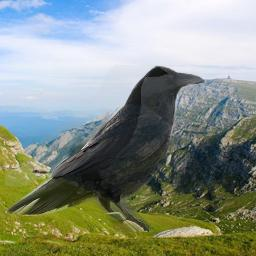Crow: (5, 65, 206, 232)
